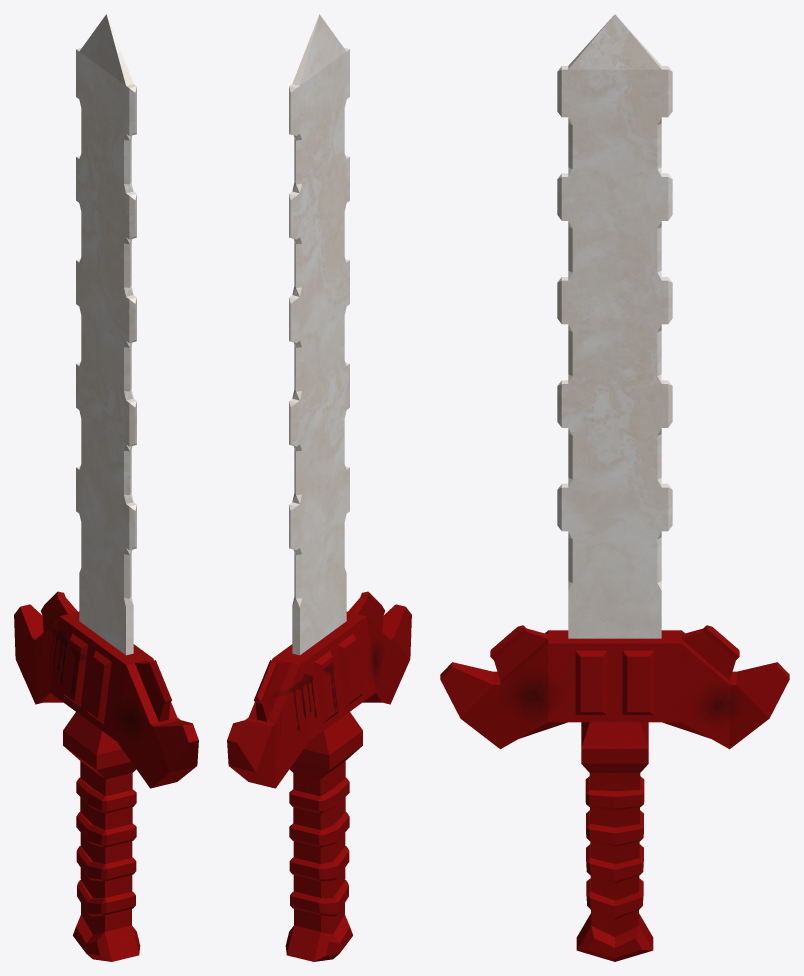
The model's file is 3D PixelSwordFuther.glb.
3 views of the same model, side by side, from view 1: azimuth 30°, elevation 25°; view 2: azimuth 150°, elevation 25°; view 3: azimuth 270°, elevation 25° (orthographic).
Visible parts, largest first — view 1: Cube; view 2: Cube; view 3: Cube.
Part boxes in pixels (x1=…): Cube: x1=14, y1=14, x2=198, y2=961; Cube: x1=227, y1=14, x2=411, y2=961; Cube: x1=440, y1=14, x2=789, y2=961.
Bounding box in the file's own units: 0.4913 × 8.29 × 2.79.
2 materials, 2 textured.
